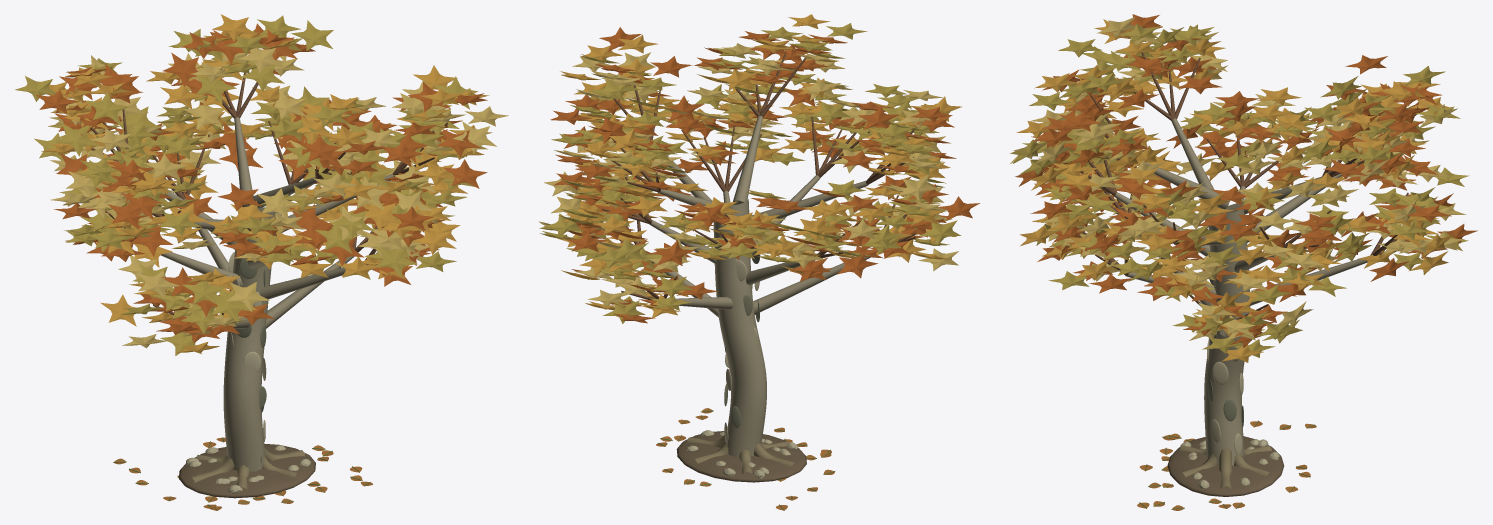
File: autumn-plane.glb
3 views of the same model, side by side, from view 1: azimuth 30°, elevation 25°; view 2: azimuth 150°, elevation 25°; view 3: azimuth 270°, elevation 25° (orthographic). The views are drawn at different scales.
Visible parts, largest first — view 1: autumn-plane-leaf, autumn-plane-bark, autumn-plane-stone; view 2: autumn-plane-leaf, autumn-plane-bark, autumn-plane-stone; view 3: autumn-plane-leaf, autumn-plane-bark, autumn-plane-stone.
Part boxes in pixels (box(x1,y1,x2,y2)): autumn-plane-leaf: box(15, 14, 508, 510); autumn-plane-bark: box(90, 60, 447, 489); autumn-plane-stone: box(179, 443, 315, 498); autumn-plane-leaf: box(539, 14, 980, 510); autumn-plane-bark: box(602, 53, 917, 473); autumn-plane-stone: box(676, 430, 806, 482); autumn-plane-leaf: box(1010, 14, 1477, 510); autumn-plane-bark: box(1075, 46, 1408, 488); autumn-plane-stone: box(1167, 436, 1284, 496).
Bounding box in the file's own units: 5.35 × 5.03 × 5.22.
